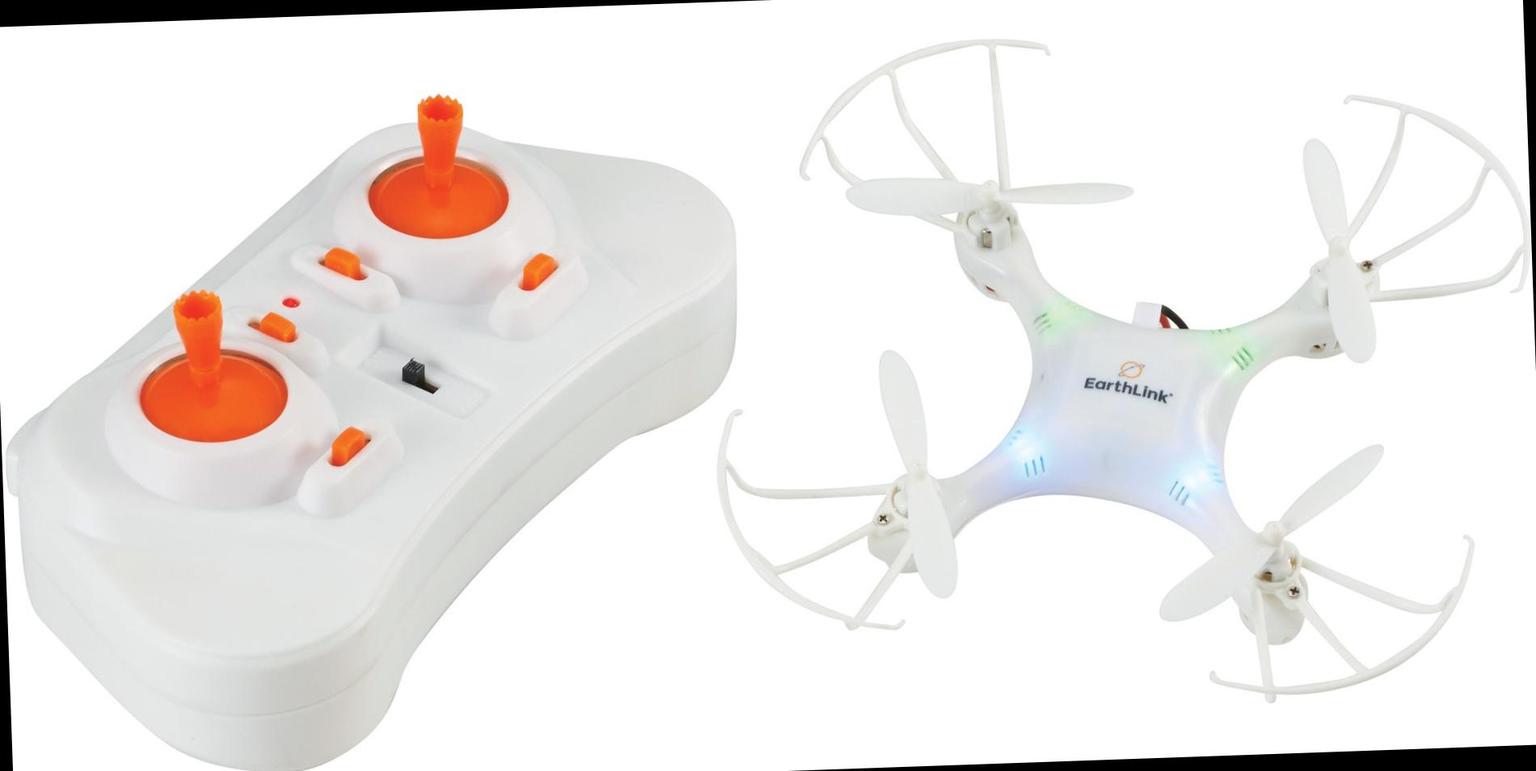drone: (692, 18, 1536, 723)
